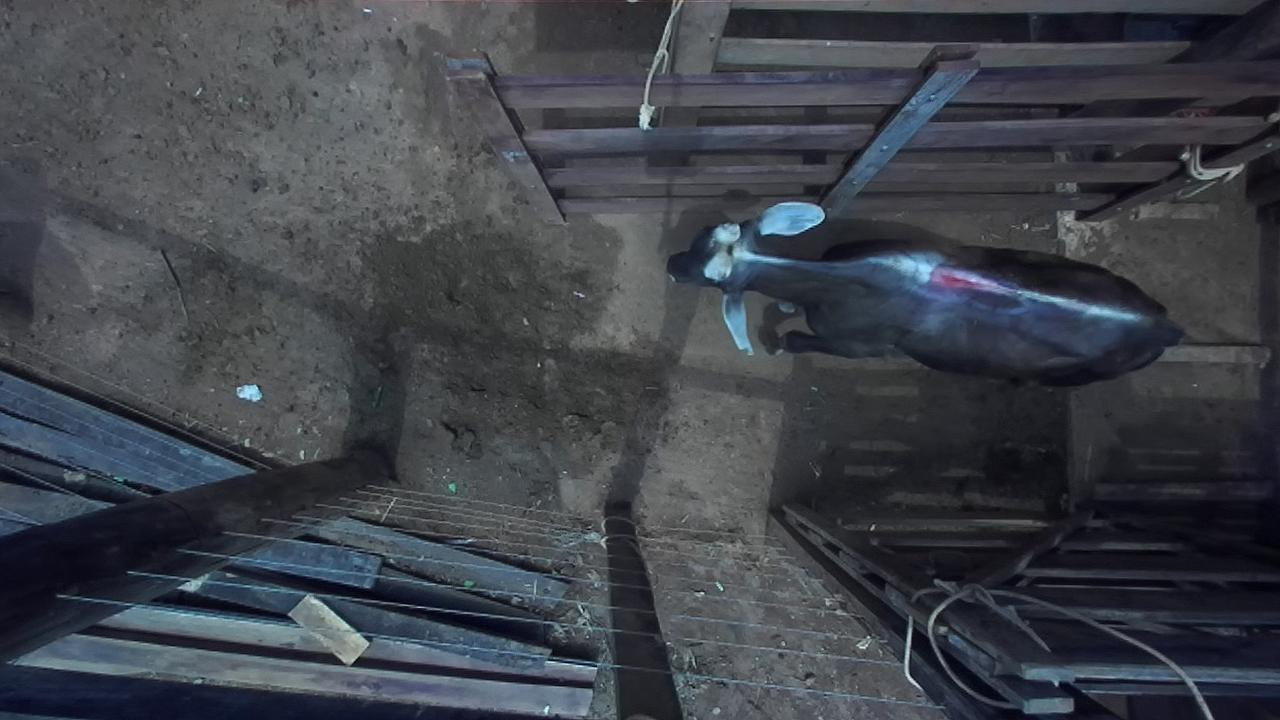cattle: (664, 199, 1186, 388)
